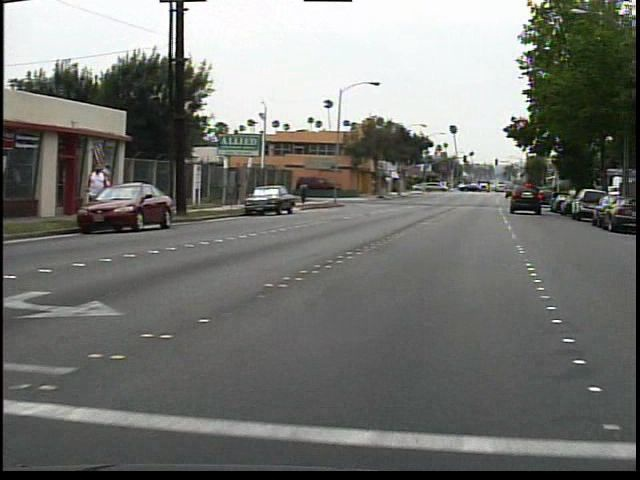person: (87, 158, 118, 224), (302, 177, 317, 207)
